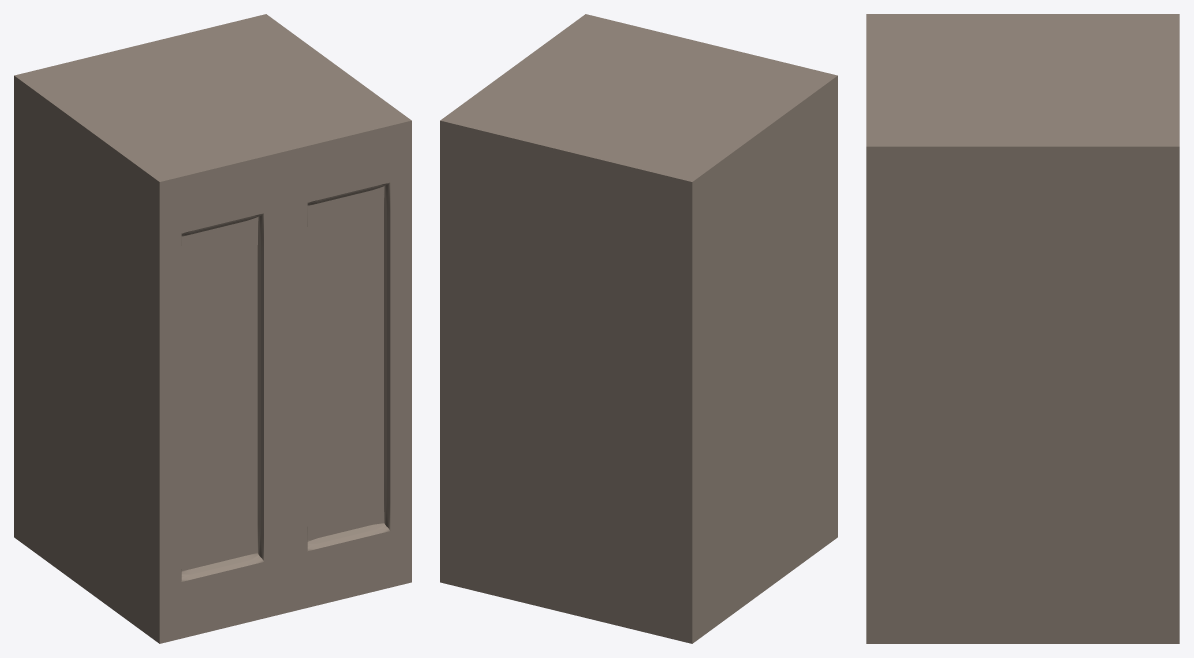
File: Wall-Cabinet-21-High-12-Deep_std_001_W12in.glb
3 renders of one model, left to right at view 1: azimuth 30°, elevation 25°; view 2: azimuth 150°, elevation 25°; view 3: azimuth 270°, elevation 25°, orthographic. The views are drawn at different scales.
Visible parts, largest first — view 1: Wall-Cabinet-21-High-12-Deep.std.001_W12in; view 2: Wall-Cabinet-21-High-12-Deep.std.001_W12in; view 3: Wall-Cabinet-21-High-12-Deep.std.001_W12in.
Part boxes in pixels (<box>): Wall-Cabinet-21-High-12-Deep.std.001_W12in: <box>14,14,411,643</box>; Wall-Cabinet-21-High-12-Deep.std.001_W12in: <box>440,14,837,643</box>; Wall-Cabinet-21-High-12-Deep.std.001_W12in: <box>866,14,1179,643</box>.
Bounding box in the file's own units: 0.3048 × 0.5334 × 0.3048.
